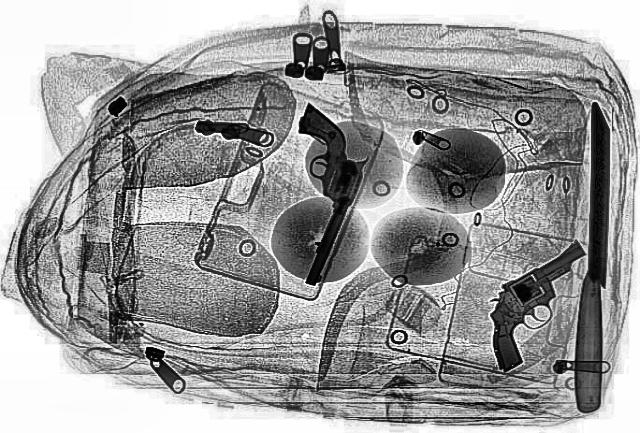Gun: (433, 249, 639, 371), (248, 102, 384, 284)
Knife: (572, 102, 610, 412)
